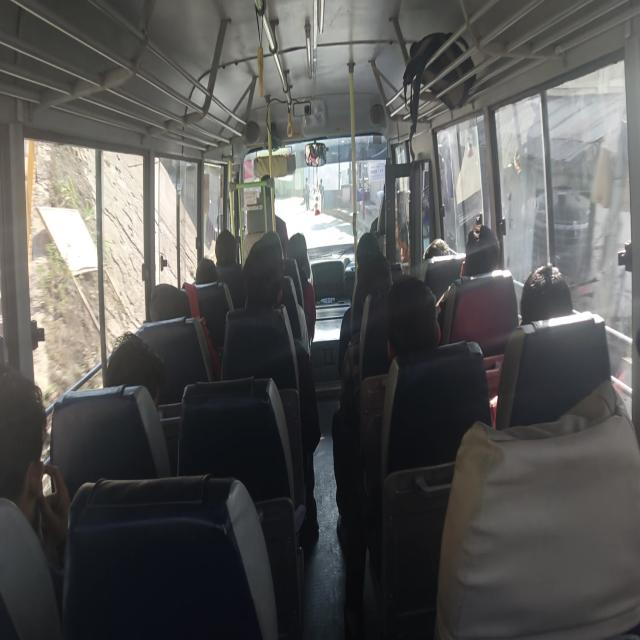person: (334, 274, 441, 634), (221, 231, 321, 543), (0, 366, 71, 569), (102, 331, 172, 475), (103, 331, 166, 408), (519, 263, 573, 325), (214, 228, 245, 309), (214, 229, 240, 269), (423, 237, 457, 260), (195, 258, 218, 284), (302, 176, 310, 210)
